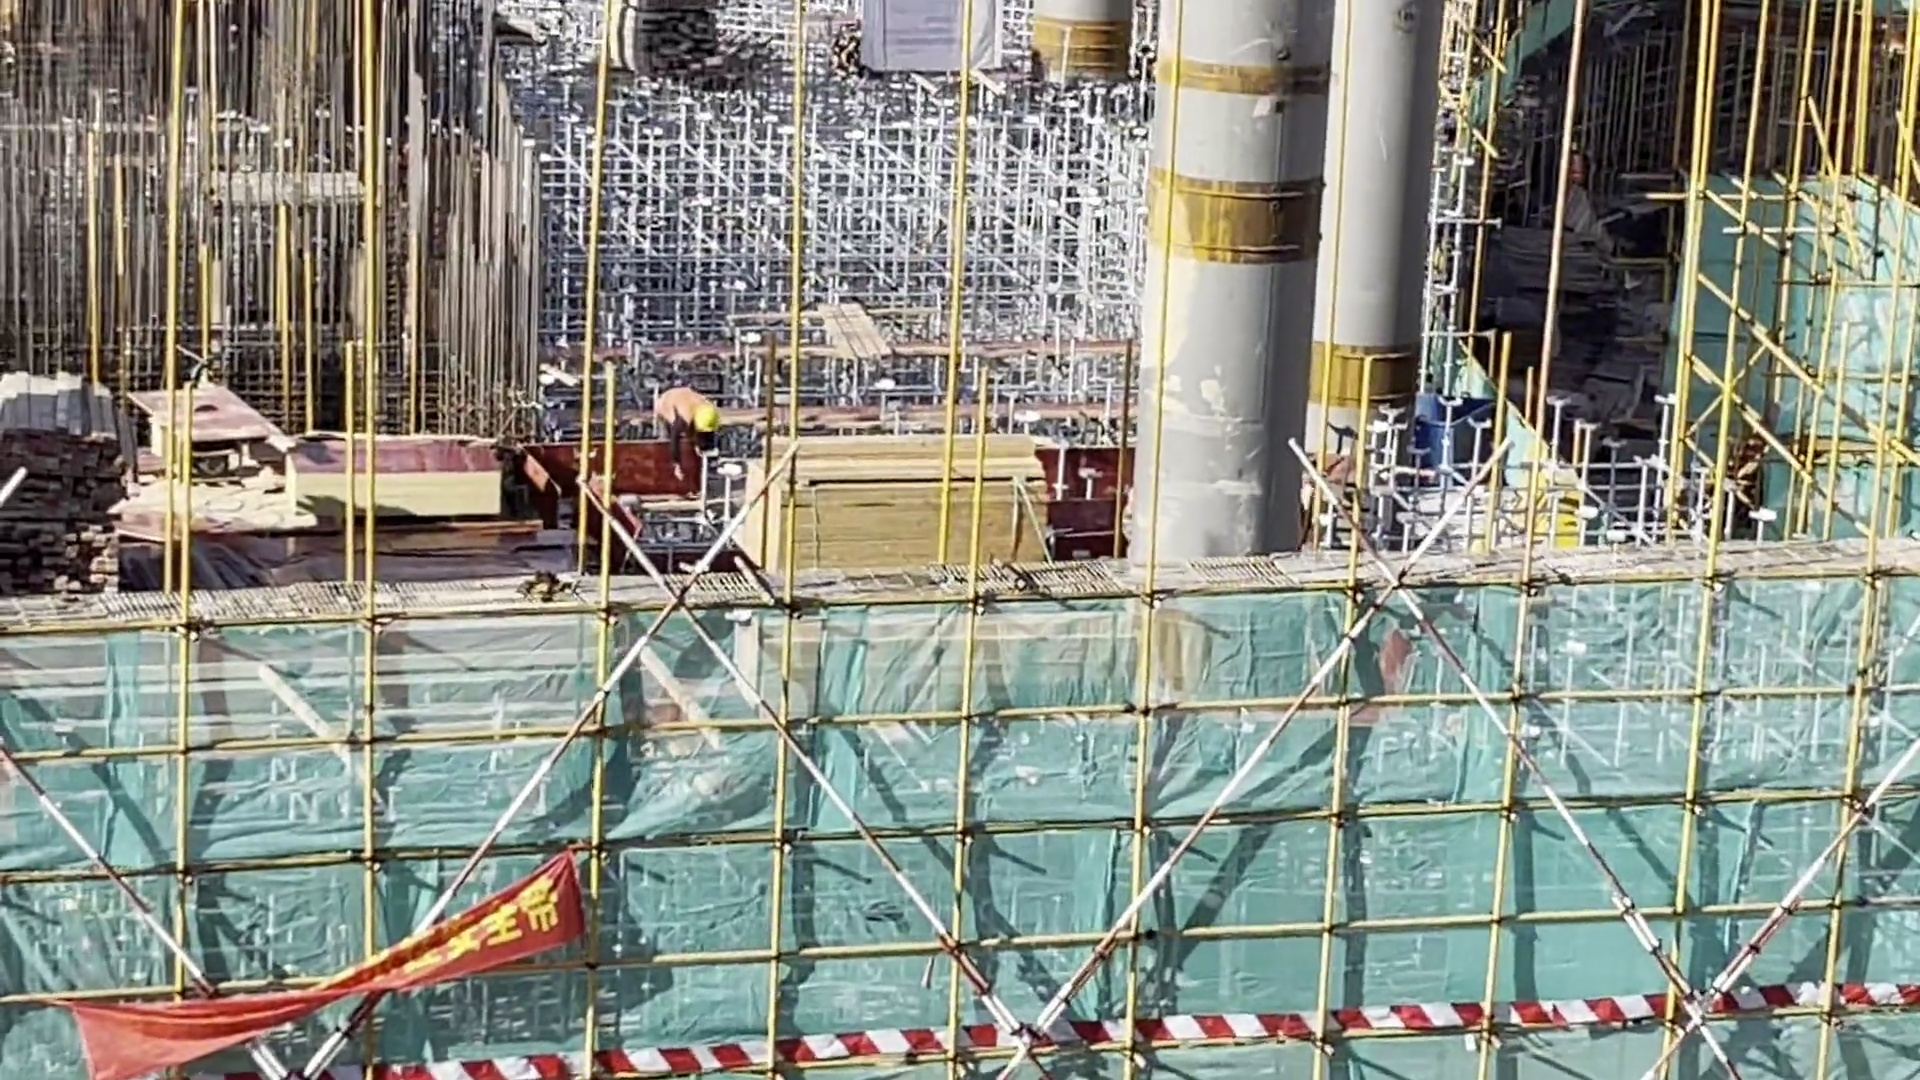helmet: (688, 395, 726, 442)
person: (647, 380, 737, 495)
slogan: (47, 845, 611, 1065)
vest: (656, 378, 696, 435)
wood: (721, 415, 1077, 597), (1, 361, 134, 583)
